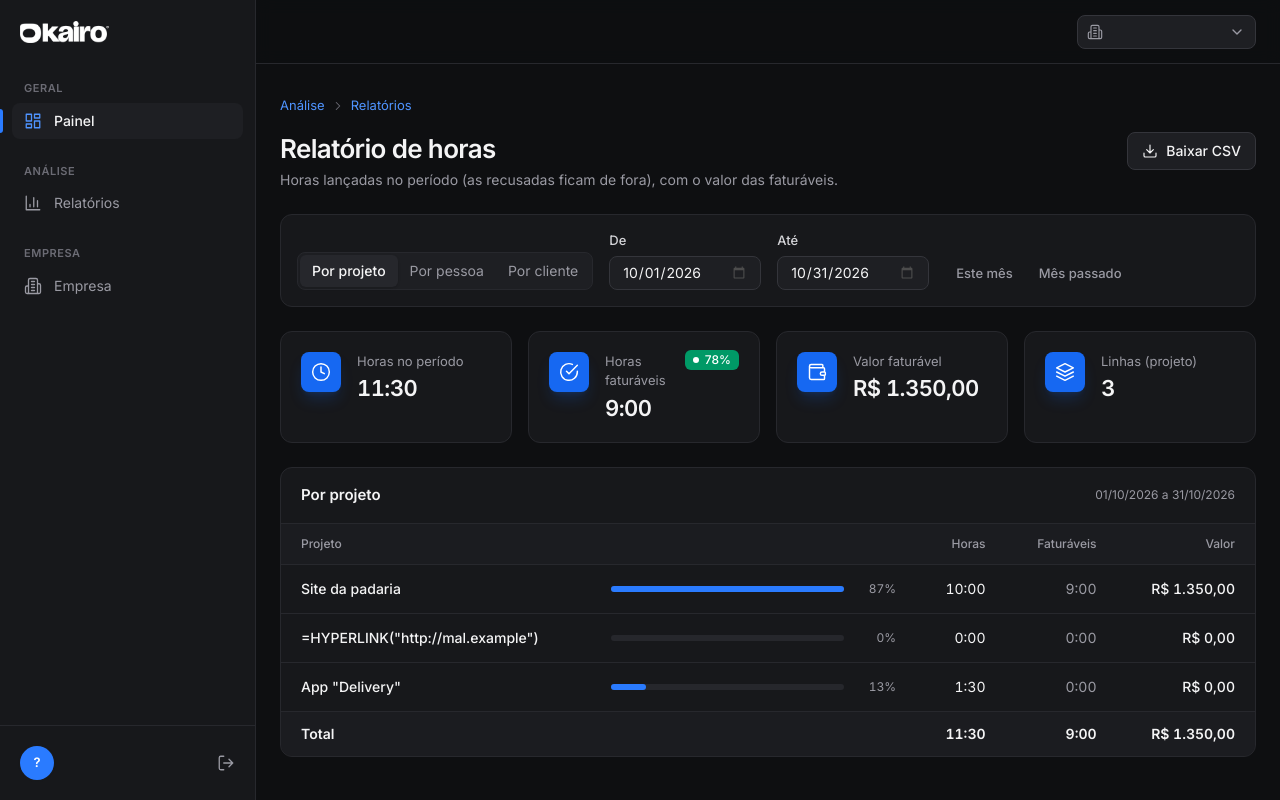
Scenario: ReportsView › troca o agrupamento e busca de novo
This screenshot has width=1280, height=800.
Click the tab "Por pessoa".
click(447, 271)  # box [398,255,496,287]
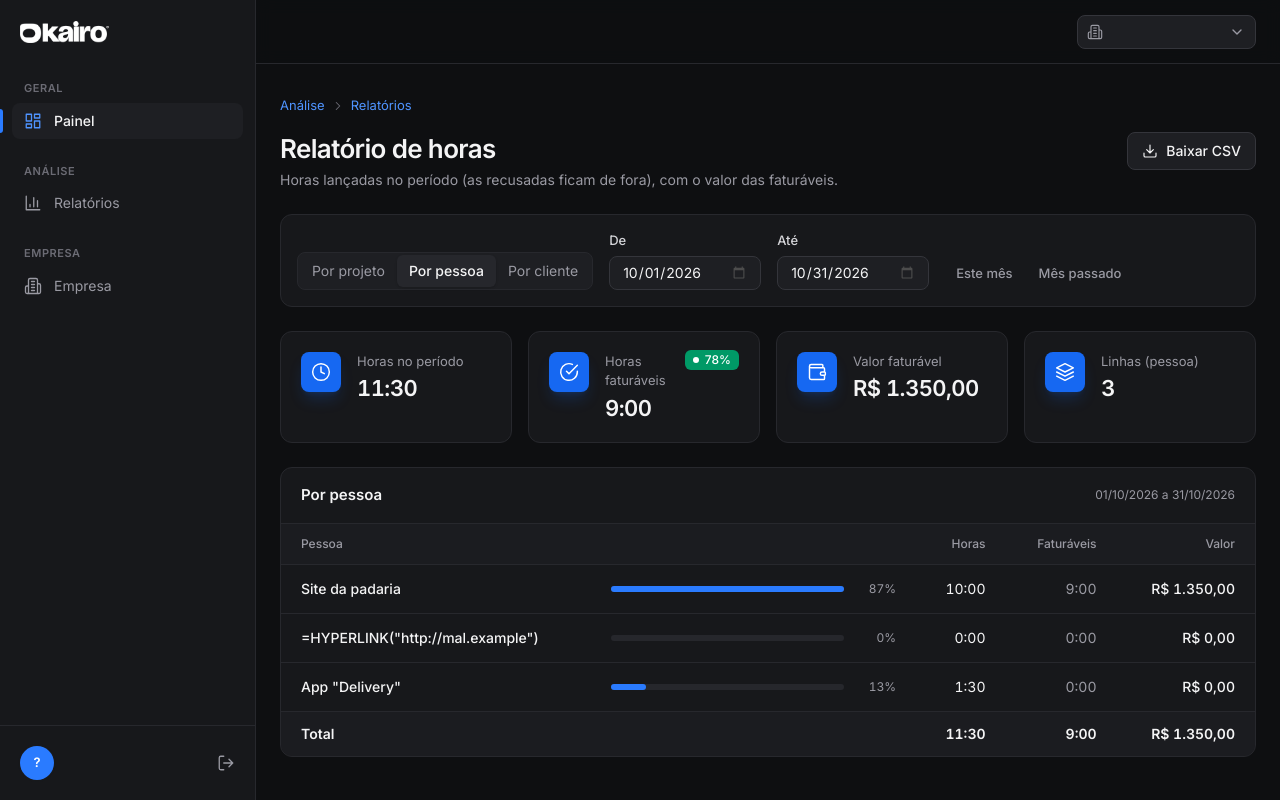
Now the element showing "Pessoa Horas Faturáveis Valor" is shown, box [281,524,1255,564]
